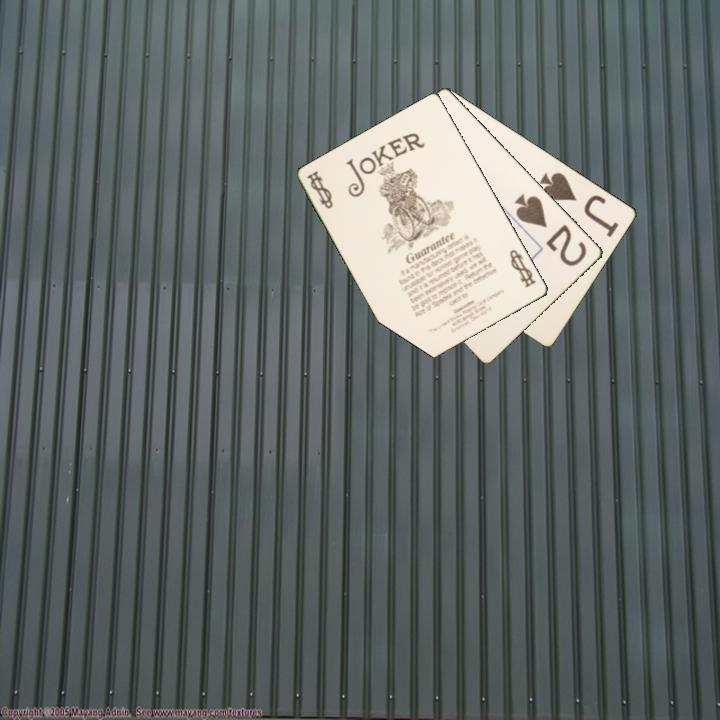2s: (511, 190, 590, 269)
JK: (506, 246, 539, 291), (303, 167, 336, 212)
Js: (536, 168, 622, 240)
